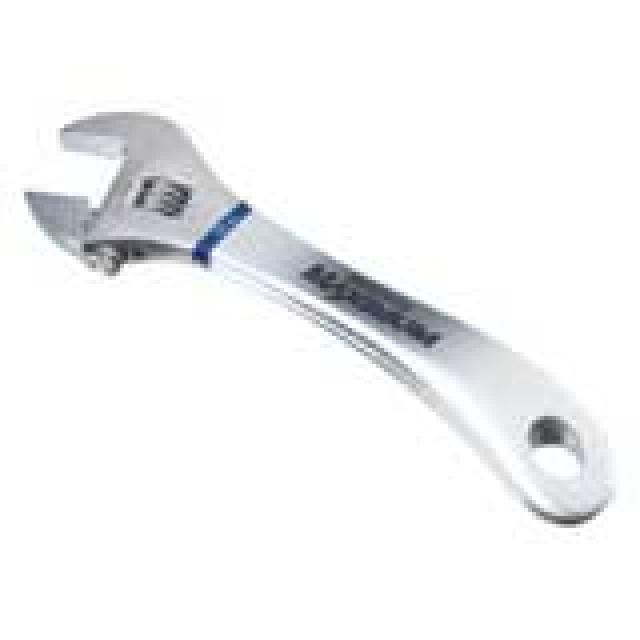wrench: (0, 79, 386, 402)
